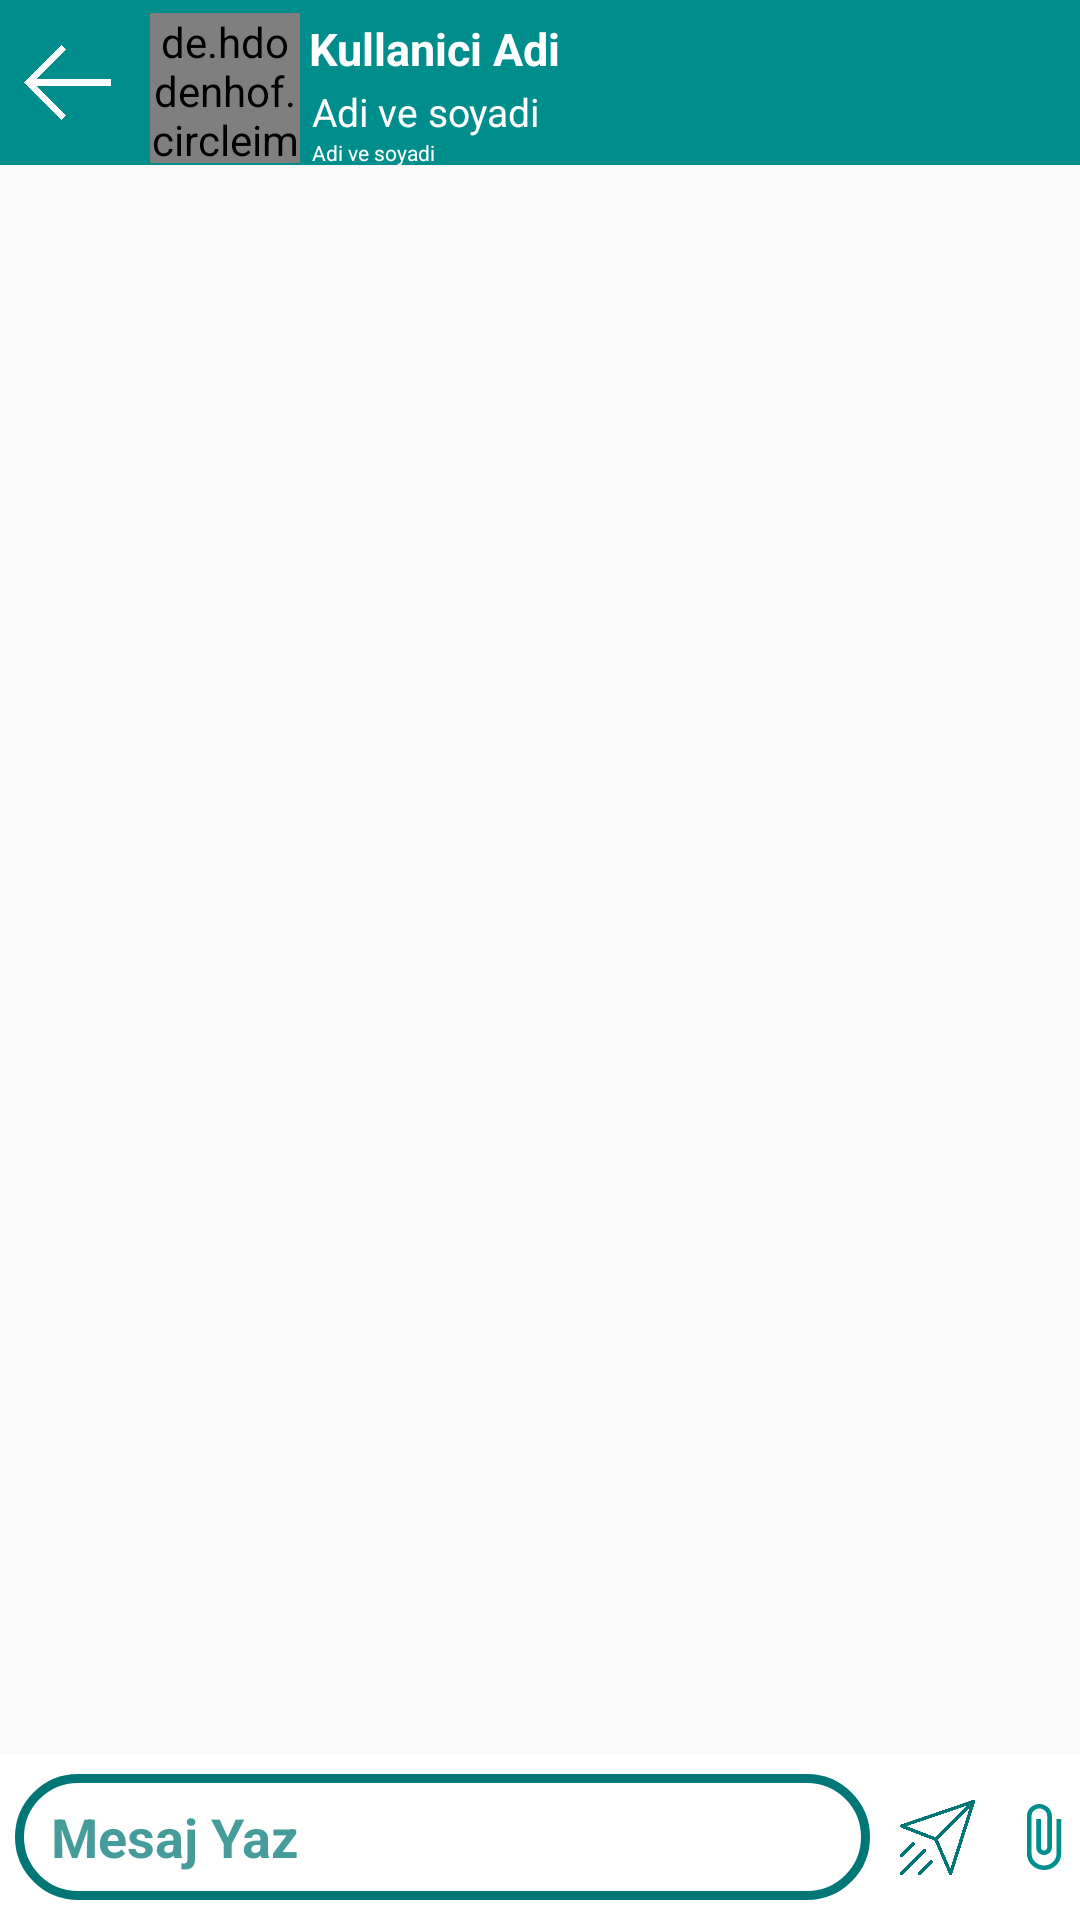

Icons on this 1080 × 1920 Android screen, each with its box as (x1, y1, x2, y2):
attach file: (1027, 1804, 1062, 1870)
back: (24, 45, 111, 120)
